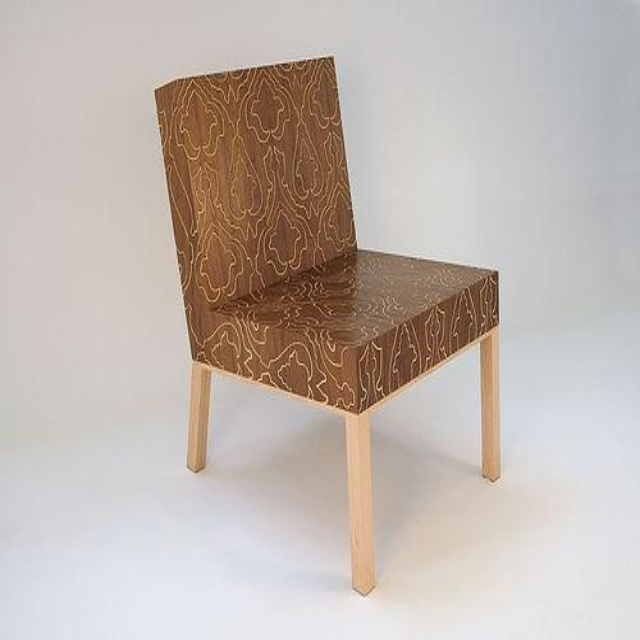obstacle: (156, 58, 499, 592)
